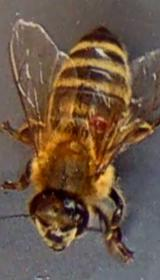varroa_mite: (82, 108, 114, 138)
